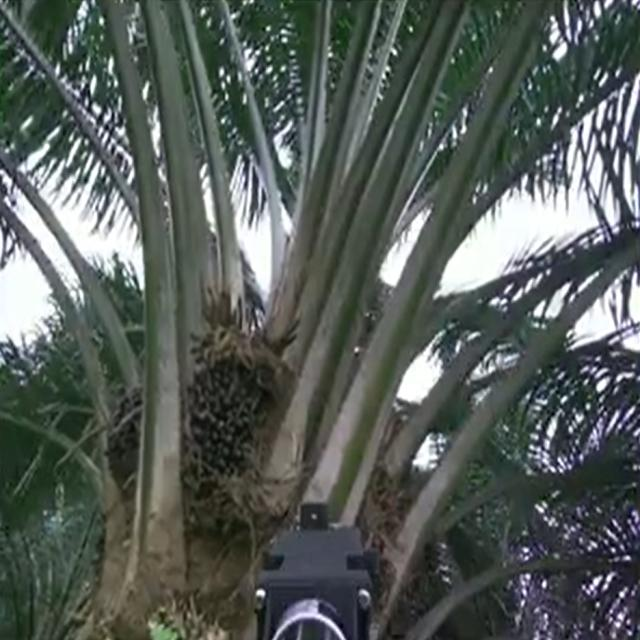palm-oil: (187, 323, 269, 511), (102, 384, 146, 511)
